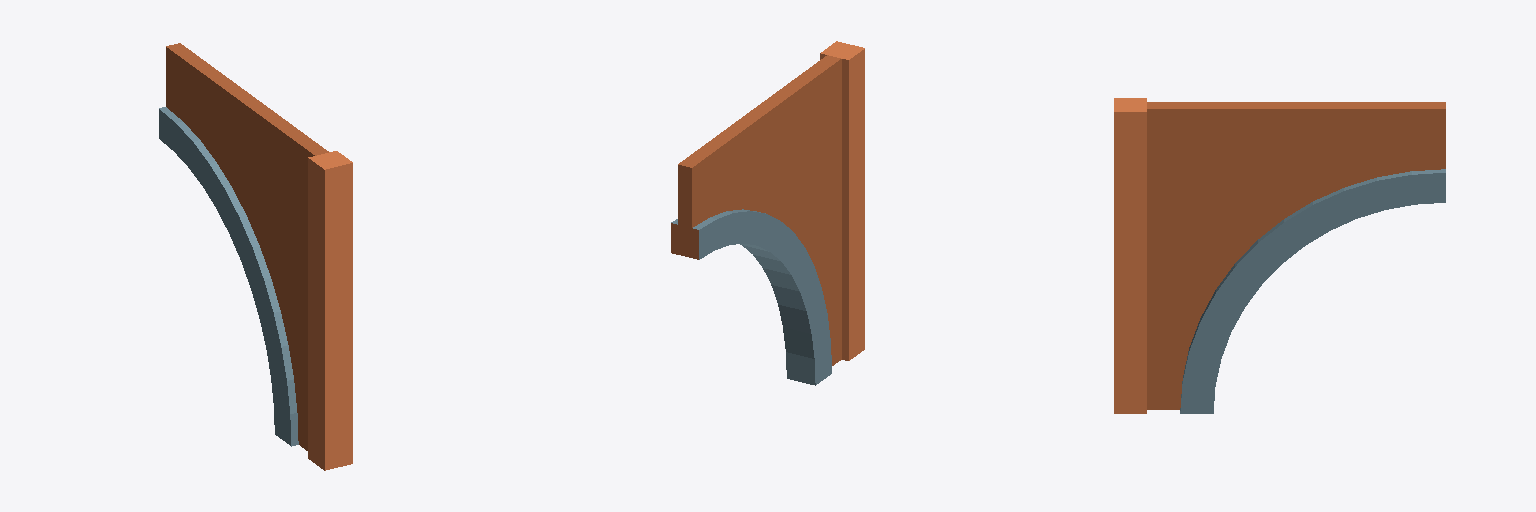
The model's file is wallWoodArchTop.obj.
3 renders of one model, left to right at view 1: azimuth 30°, elevation 25°; view 2: azimuth 150°, elevation 25°; view 3: azimuth 270°, elevation 25°, orthographic.
Parts seen in each view (by area): view 1: wallWoodArchTop; view 2: wallWoodArchTop; view 3: wallWoodArchTop.
Part boxes in pixels (left/top/right/bottom): wallWoodArchTop: left=159, top=43, right=352, bottom=470; wallWoodArchTop: left=671, top=41, right=864, bottom=385; wallWoodArchTop: left=1114, top=98, right=1445, bottom=413.
Size of the model in its own units: 0.1 by 1 by 1.